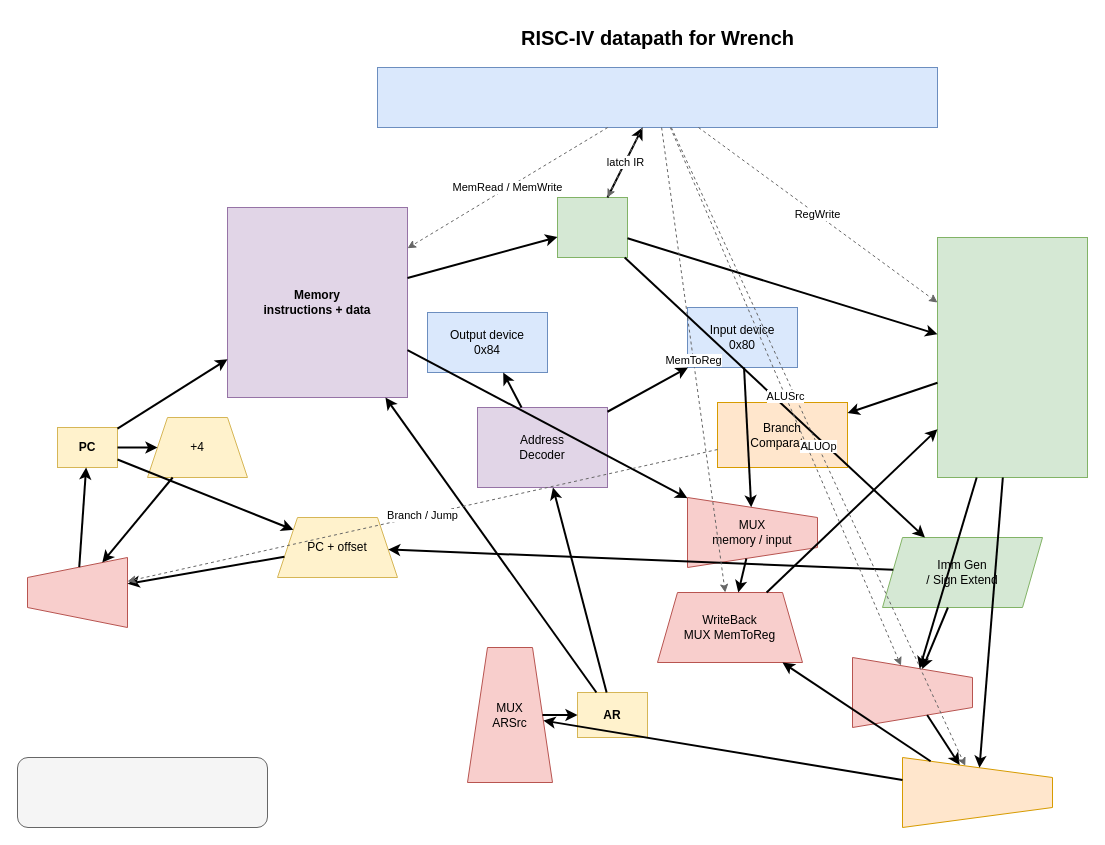
Image size: 1105x845. Some labels were removed from this diagram. Each missing label, with the box of its shape:
ALU: (902, 756, 1052, 828)
Control Unit: (376, 66, 938, 128)
IR: (556, 196, 628, 258)
MUX ALUSrc: (852, 656, 972, 728)
MUX PCSrc: (26, 556, 128, 628)
Register File 32 registers: (936, 236, 1088, 478)
Solid arrows: data path Dashed arrows: control signals: (16, 756, 268, 828)
